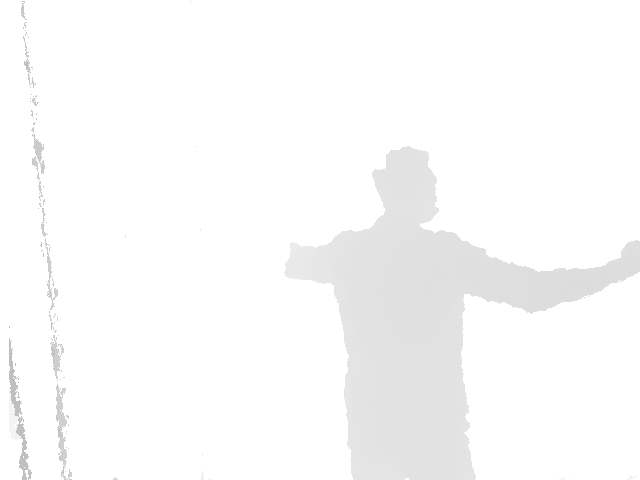head: (373, 146, 440, 227)
person: (284, 146, 640, 480)
